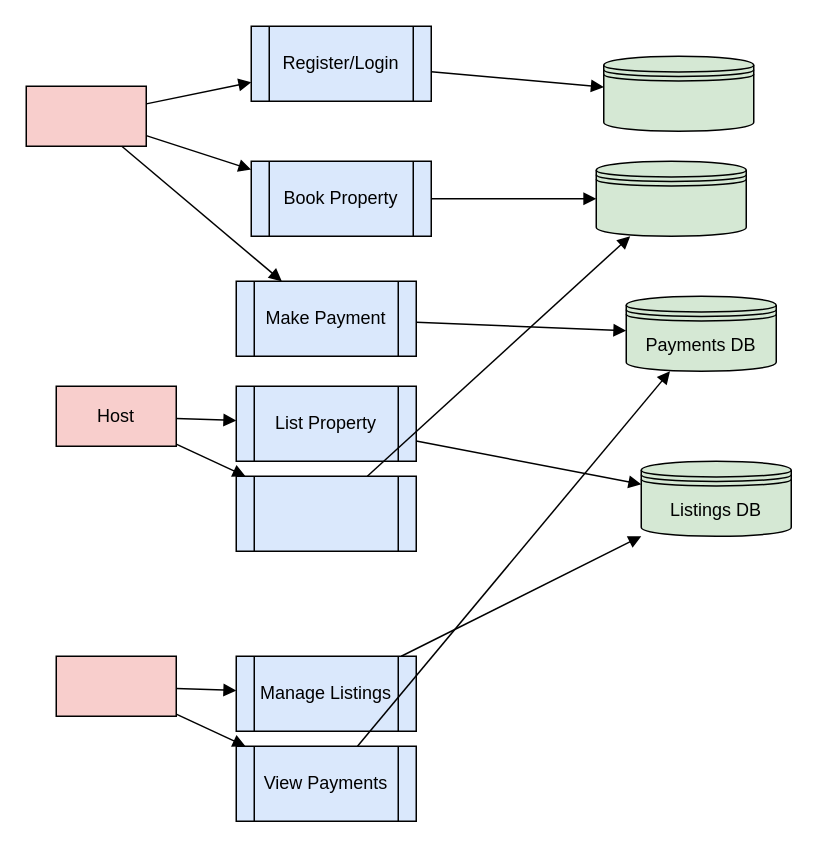
Image size: 818x848. Some labels were removed from this diagram. Here are the shapes that lost their labels. From the top down, the centre of each, then its label:
At point 678,93: "Users DB".
At point 85,115: "Guest".
At point 670,198: "Bookings DB".
At point 325,513: "View Bookings".
At point 115,685: "Admin".
